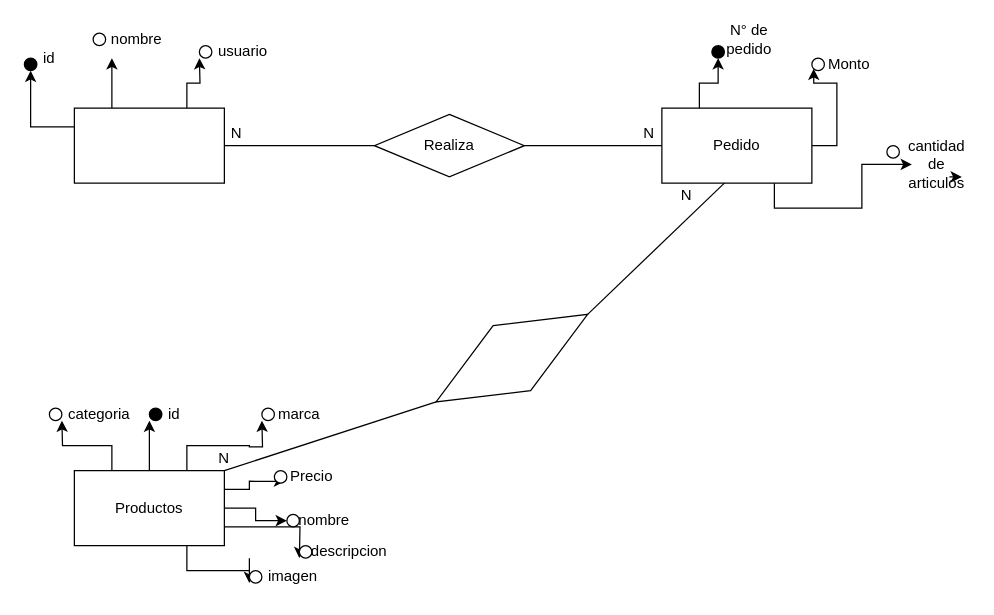
This 994x615 diagram has some shape labels left out. The box of each missing label's shape, as (x1, y1, x2, y2) in pixels:
Cliente: (73, 107, 224, 183)
Se compone: (416, 280, 607, 434)
